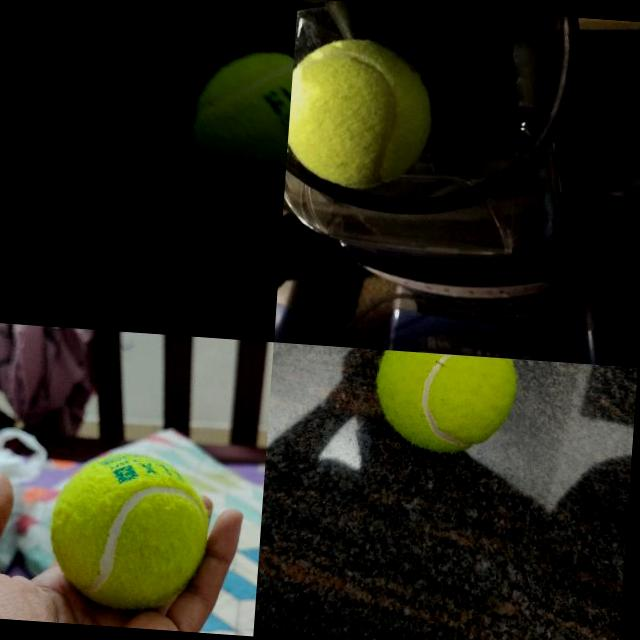Tennis Ball: (45, 446, 212, 614), (284, 32, 438, 196), (184, 43, 292, 213), (371, 349, 518, 458)
